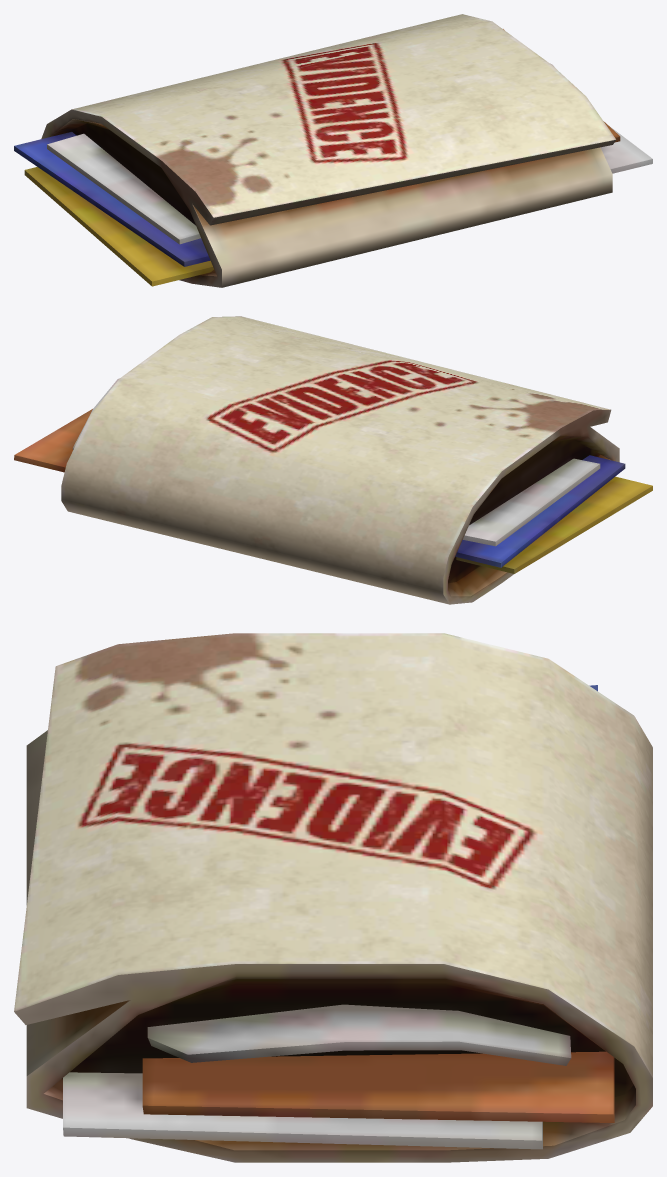
The model's file is Evidence.glb.
3 views of the same model, one above another, from view 1: azimuth 30°, elevation 25°; view 2: azimuth 150°, elevation 25°; view 3: azimuth 270°, elevation 25° (orthographic). The views are drawn at different scales.
Parts seen in each view (by area): view 1: EVIDENCE; view 2: EVIDENCE; view 3: EVIDENCE.
Part boxes in pixels (x1,y1,x2,y2): EVIDENCE: (14, 14, 652, 287); EVIDENCE: (14, 316, 652, 604); EVIDENCE: (14, 633, 652, 1162).
Bounding box in the file's own units: 0.5657 × 0.1232 × 0.3591.
1 material, 1 textured.
